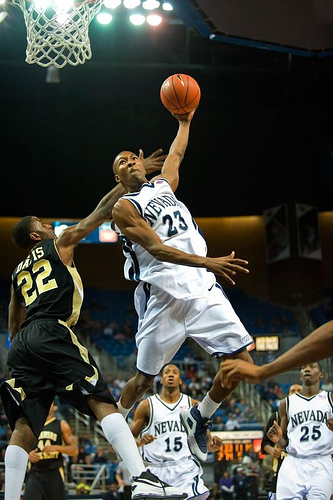basketball: (160, 74, 201, 114)
